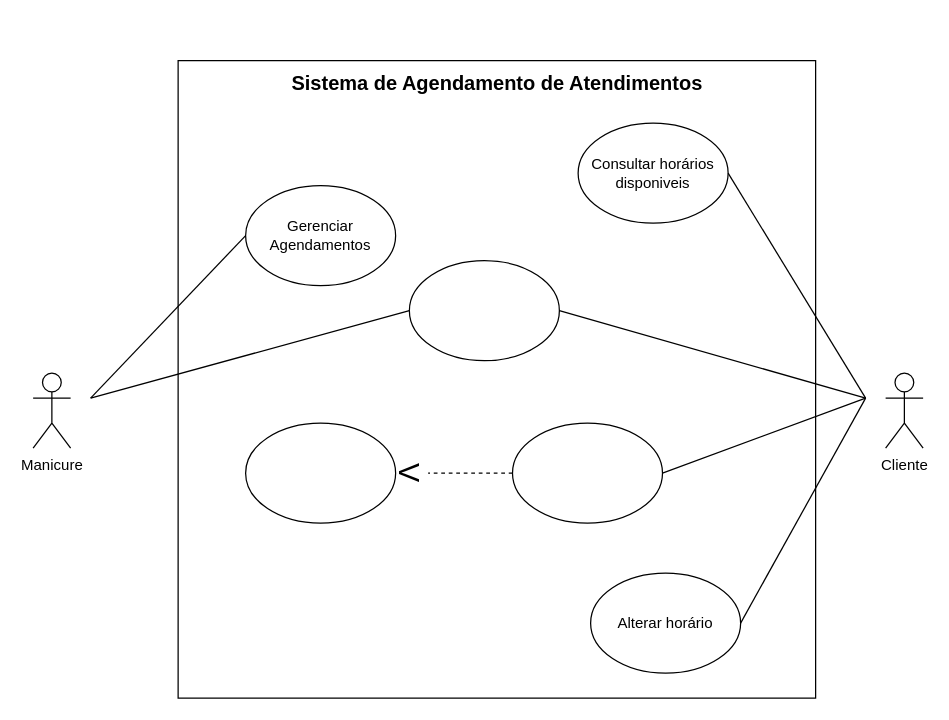
Image size: 949x720. Some labels were removed from this diagram. The shapes that lost their labels are listed below. From the top down, each one's centre as x and y in pixels, then its label:
At [483,310]: "Cancelar agendamento".
At [320,472]: "Realizar Pagamento".
At [586,472]: "Agendar horário".
